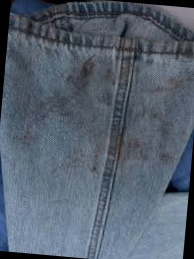earth: (103, 133, 149, 165), (78, 60, 119, 87), (168, 77, 182, 90)
